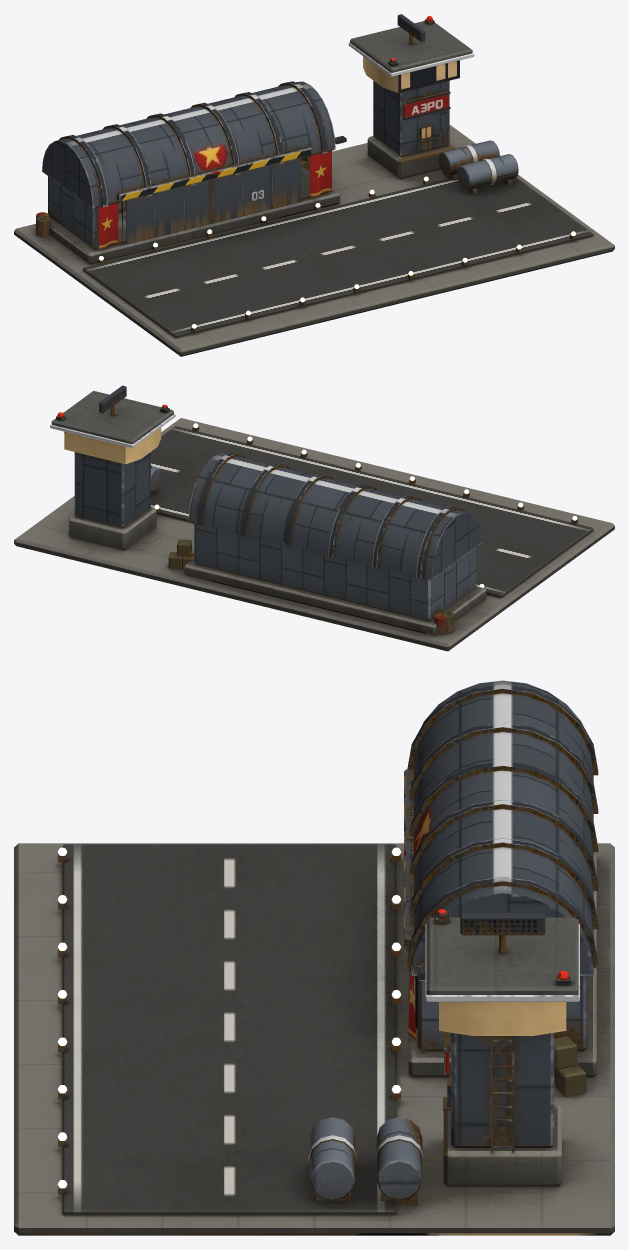
Rendered from afld.soviet.glb.
The picture shows the model from 3 angles, top to bottom: view 1: azimuth 30°, elevation 25°; view 2: azimuth 150°, elevation 25°; view 3: azimuth 270°, elevation 25°; orthographic projection. The views are drawn at different scales.
Visible parts, largest first — view 1: root_mesh; view 2: root_mesh, radar_mesh; view 3: root_mesh, radar_mesh.
Boxes of the visible parts, x1,y1,x2,y2 form: root_mesh: (14,16,614,356); root_mesh: (14,390,614,651); radar_mesh: (99,385,126,415); root_mesh: (14,680,614,1235); radar_mesh: (460,913,545,953).
Size of the model in its own units: 2.98 by 0.955 by 1.98.
5 materials, 1 textured.
